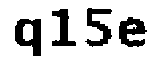1: (46, 7, 78, 53)
5: (84, 5, 111, 51)
e: (118, 16, 148, 53)
q: (12, 16, 46, 59)
